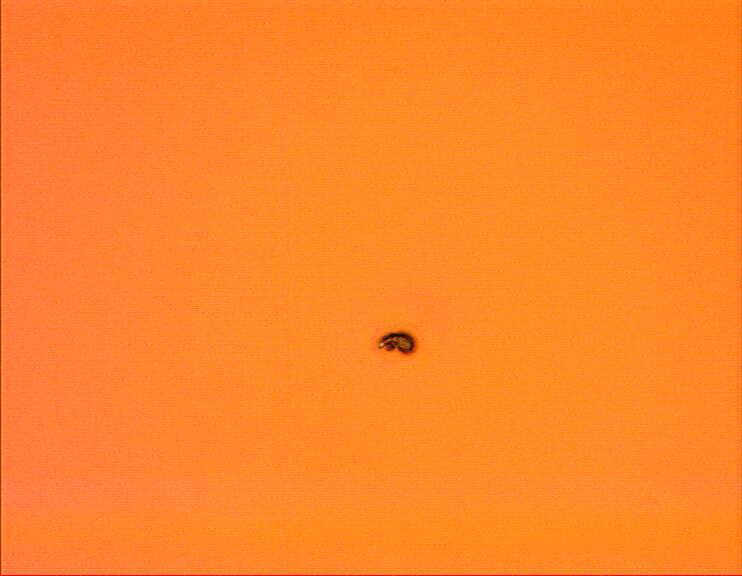PIQ PARTICLE: (372, 325, 420, 362)
